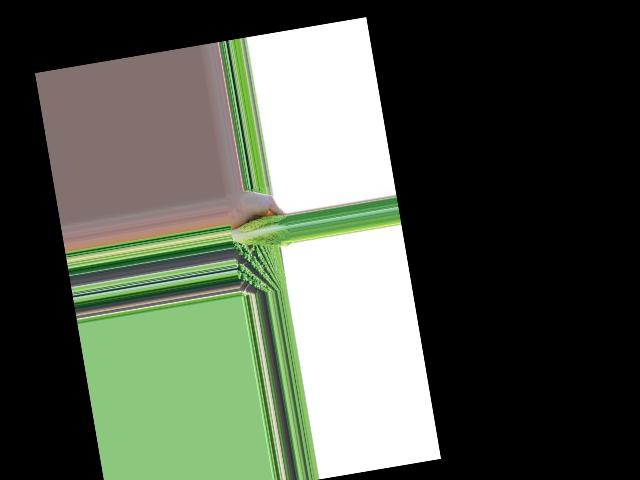lettuce: (228, 213, 290, 253)
